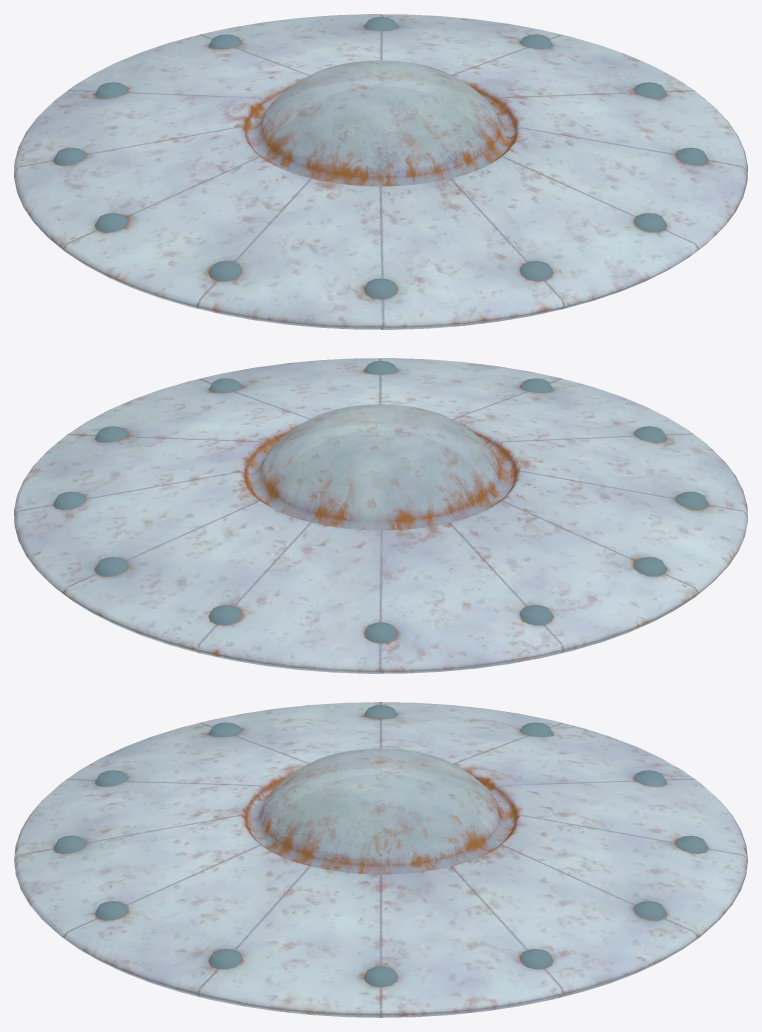
The model's file is ufo.glb.
The picture shows the model from 3 angles, top to bottom: view 1: azimuth 30°, elevation 25°; view 2: azimuth 150°, elevation 25°; view 3: azimuth 270°, elevation 25°; orthographic projection.
Visible parts, largest first — view 1: ufo_low; view 2: ufo_low; view 3: ufo_low.
Part boxes in pixels (x1,y1,x2,y2): ufo_low: (14,14,747,329); ufo_low: (14,358,747,673); ufo_low: (14,702,747,1017).
Bounding box in the file's own units: 200 × 48.97 × 200.
1 material, 1 textured.
